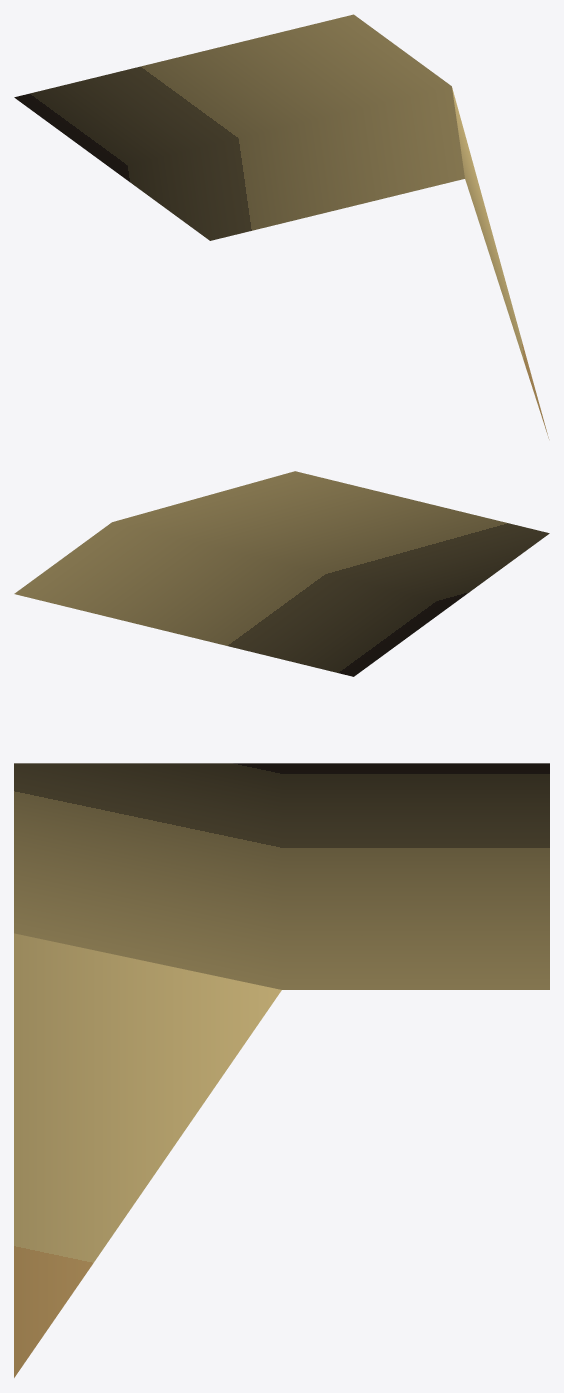
The picture shows the model from 3 angles, top to bottom: view 1: azimuth 30°, elevation 25°; view 2: azimuth 150°, elevation 25°; view 3: azimuth 270°, elevation 25°; orthographic projection. The views are drawn at different scales.
Bounding box in the file's own units: 1 × 0.7998 × 1.
2 materials, 2 textured.
